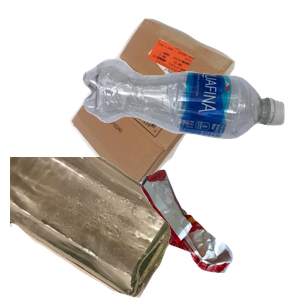cardboard: (67, 16, 295, 196)
glass: (10, 157, 190, 300)
plastic: (80, 56, 300, 187)
trash: (139, 167, 300, 300)
